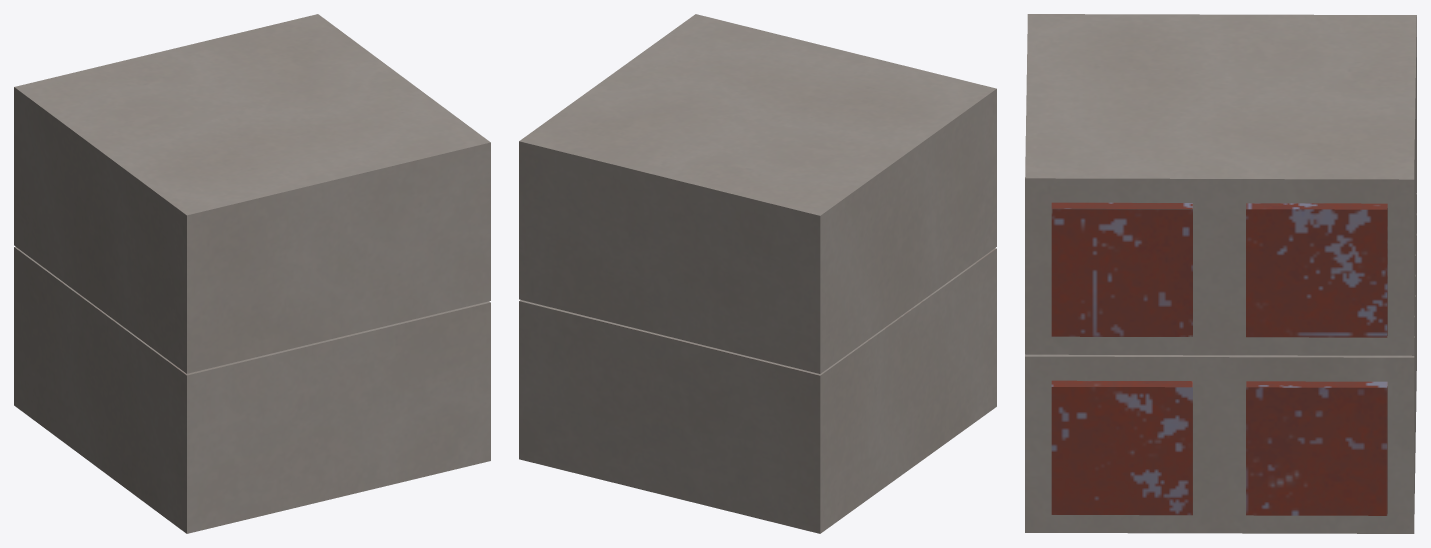
The model's file is simon_says_box.glb.
The picture shows the model from 3 angles, left to right: view 1: azimuth 30°, elevation 25°; view 2: azimuth 150°, elevation 25°; view 3: azimuth 270°, elevation 25°; orthographic projection. The views are drawn at different scales.
Visible parts, largest first — view 1: upper_puzzle_box, lower_puzzle_box; view 2: upper_puzzle_box, lower_puzzle_box; view 3: upper_puzzle_box, lower_puzzle_box.
Part boxes in pixels (x1,y1,x2,y2): upper_puzzle_box: (14,14,490,373); lower_puzzle_box: (14,246,490,533); upper_puzzle_box: (519,14,996,373); lower_puzzle_box: (519,248,996,533); upper_puzzle_box: (1025,14,1416,355); lower_puzzle_box: (1025,193,1416,533).
Bounding box in the file's own units: 0.7629 × 0.7351 × 0.7362.
1 material, 1 textured.
